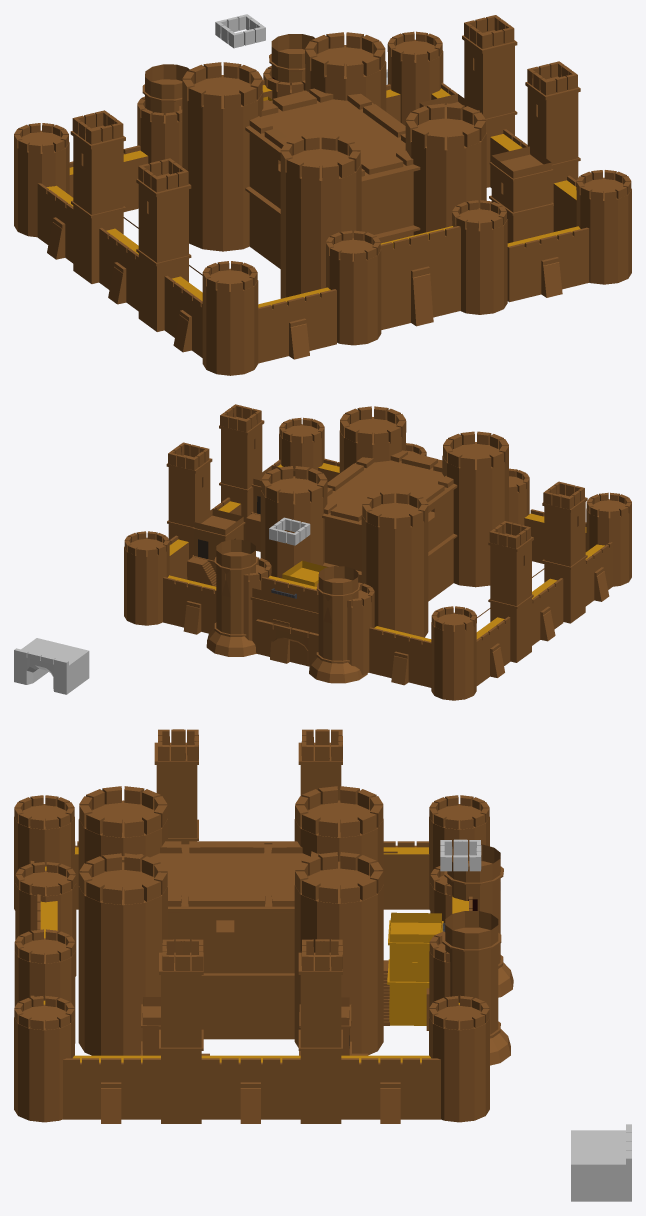
The model's file is castle.obj.
The picture shows the model from 3 angles, top to bottom: view 1: azimuth 30°, elevation 25°; view 2: azimuth 150°, elevation 25°; view 3: azimuth 270°, elevation 25°; orthographic projection. The views are drawn at different scales.
Parts seen in each view (by area): view 1: Cube.017, Cylinder.001, Cylinder, Cube.015; view 2: Cube.017, Cylinder.001, Cylinder, Cube.016, Cube.010_Cube.003, Cube.015, Cube.001_Cube.002; view 3: Cube.017, Cylinder, Cube.001_Cube.002, Cube.016, Cylinder.001, Cube.015.
Part boxes in pixels (left/top/right/bottom): Cube.017: left=14, top=15, right=631, bottom=375; Cylinder.001: left=142, top=64, right=189, bottom=115; Cylinder: left=269, top=34, right=315, bottom=85; Cube.015: left=215, top=14, right=265, bottom=48; Cube.017: left=124, top=404, right=631, bottom=700; Cylinder.001: left=309, top=566, right=367, bottom=683; Cylinder: left=206, top=539, right=257, bottom=656; Cube.016: left=14, top=638, right=89, bottom=694; Cube.010_Cube.003: left=250, top=588, right=318, bottom=666; Cube.015: left=269, top=517, right=310, bottom=545; Cube.001_Cube.002: left=282, top=560, right=327, bottom=586; Cube.017: left=14, top=729, right=489, bottom=1123; Cylinder: left=442, top=911, right=510, bottom=1065; Cube.001_Cube.002: left=383, top=912, right=443, bottom=1025; Cube.016: left=571, top=1124, right=631, bottom=1201; Cylinder.001: left=444, top=844, right=513, bottom=997; Cube.015: left=440, top=839, right=481, bottom=871.
Size of the model in its own units: 60.13 by 23.81 by 60.83.
